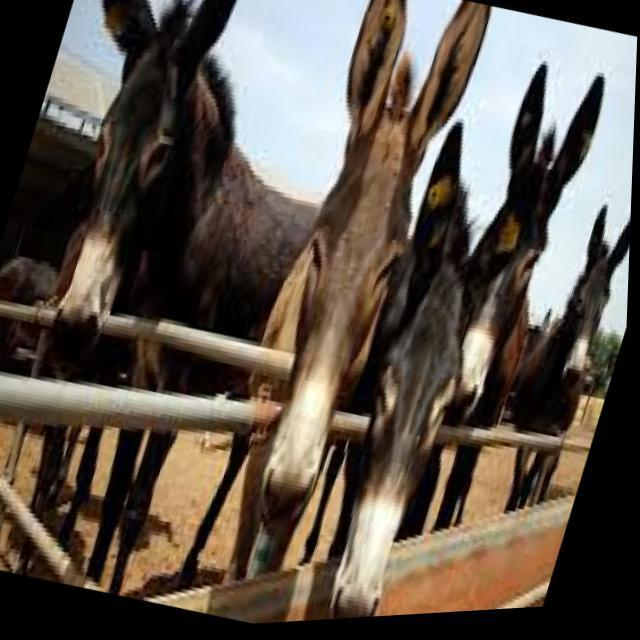Donkey: (220, 0, 496, 553), (288, 124, 556, 626), (0, 0, 255, 393), (421, 50, 622, 456), (540, 197, 634, 408)
